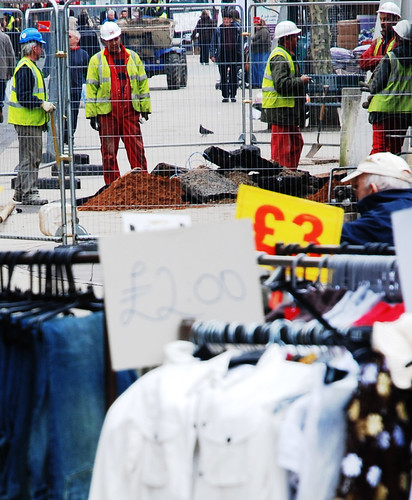person hardhat: (88, 22, 157, 185), (14, 27, 67, 207), (264, 21, 312, 175), (369, 1, 402, 159), (380, 17, 412, 167)
